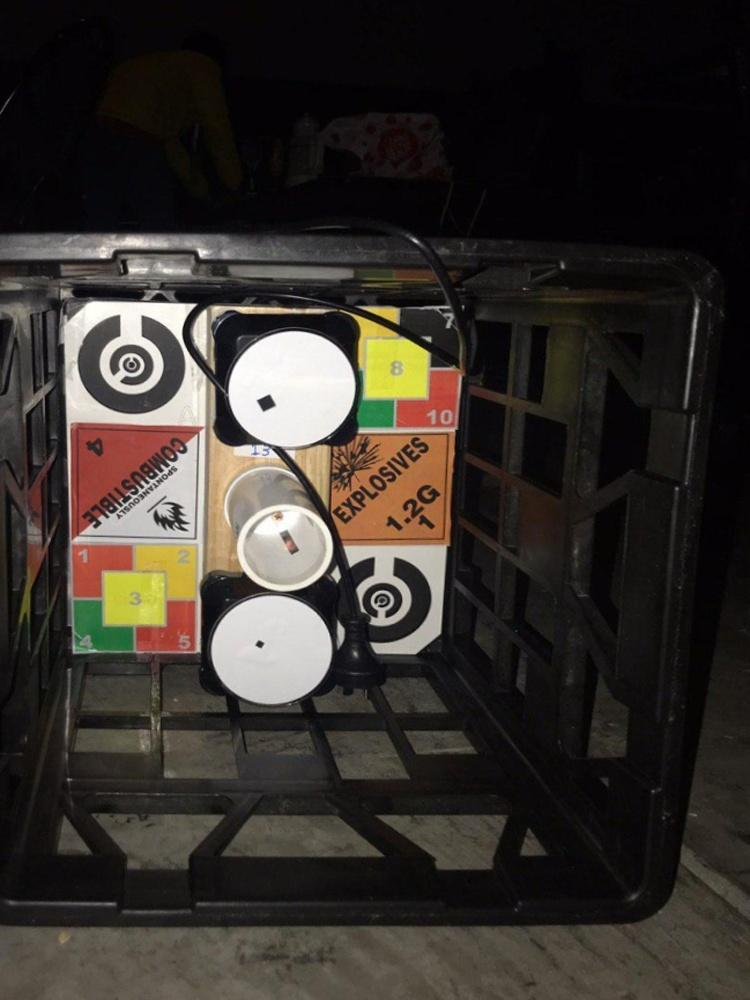explosive: (324, 430, 452, 547)
spontaneously-combustible: (66, 422, 209, 549)
